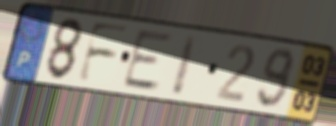2: (214, 43, 256, 105)
8: (43, 16, 85, 83)
9: (254, 46, 297, 110)
E: (119, 29, 177, 94)
F: (74, 20, 133, 86)
I: (168, 32, 201, 98)
